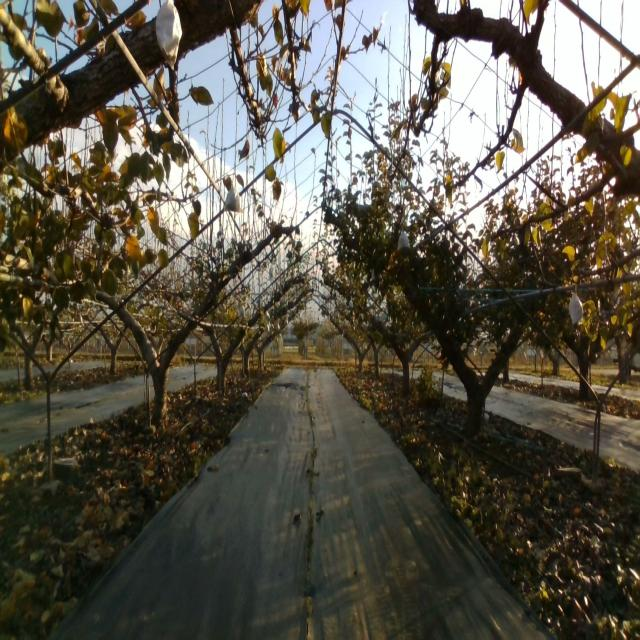pearbags: (155, 1, 182, 72), (567, 292, 583, 324), (224, 188, 242, 215), (397, 233, 410, 253)
